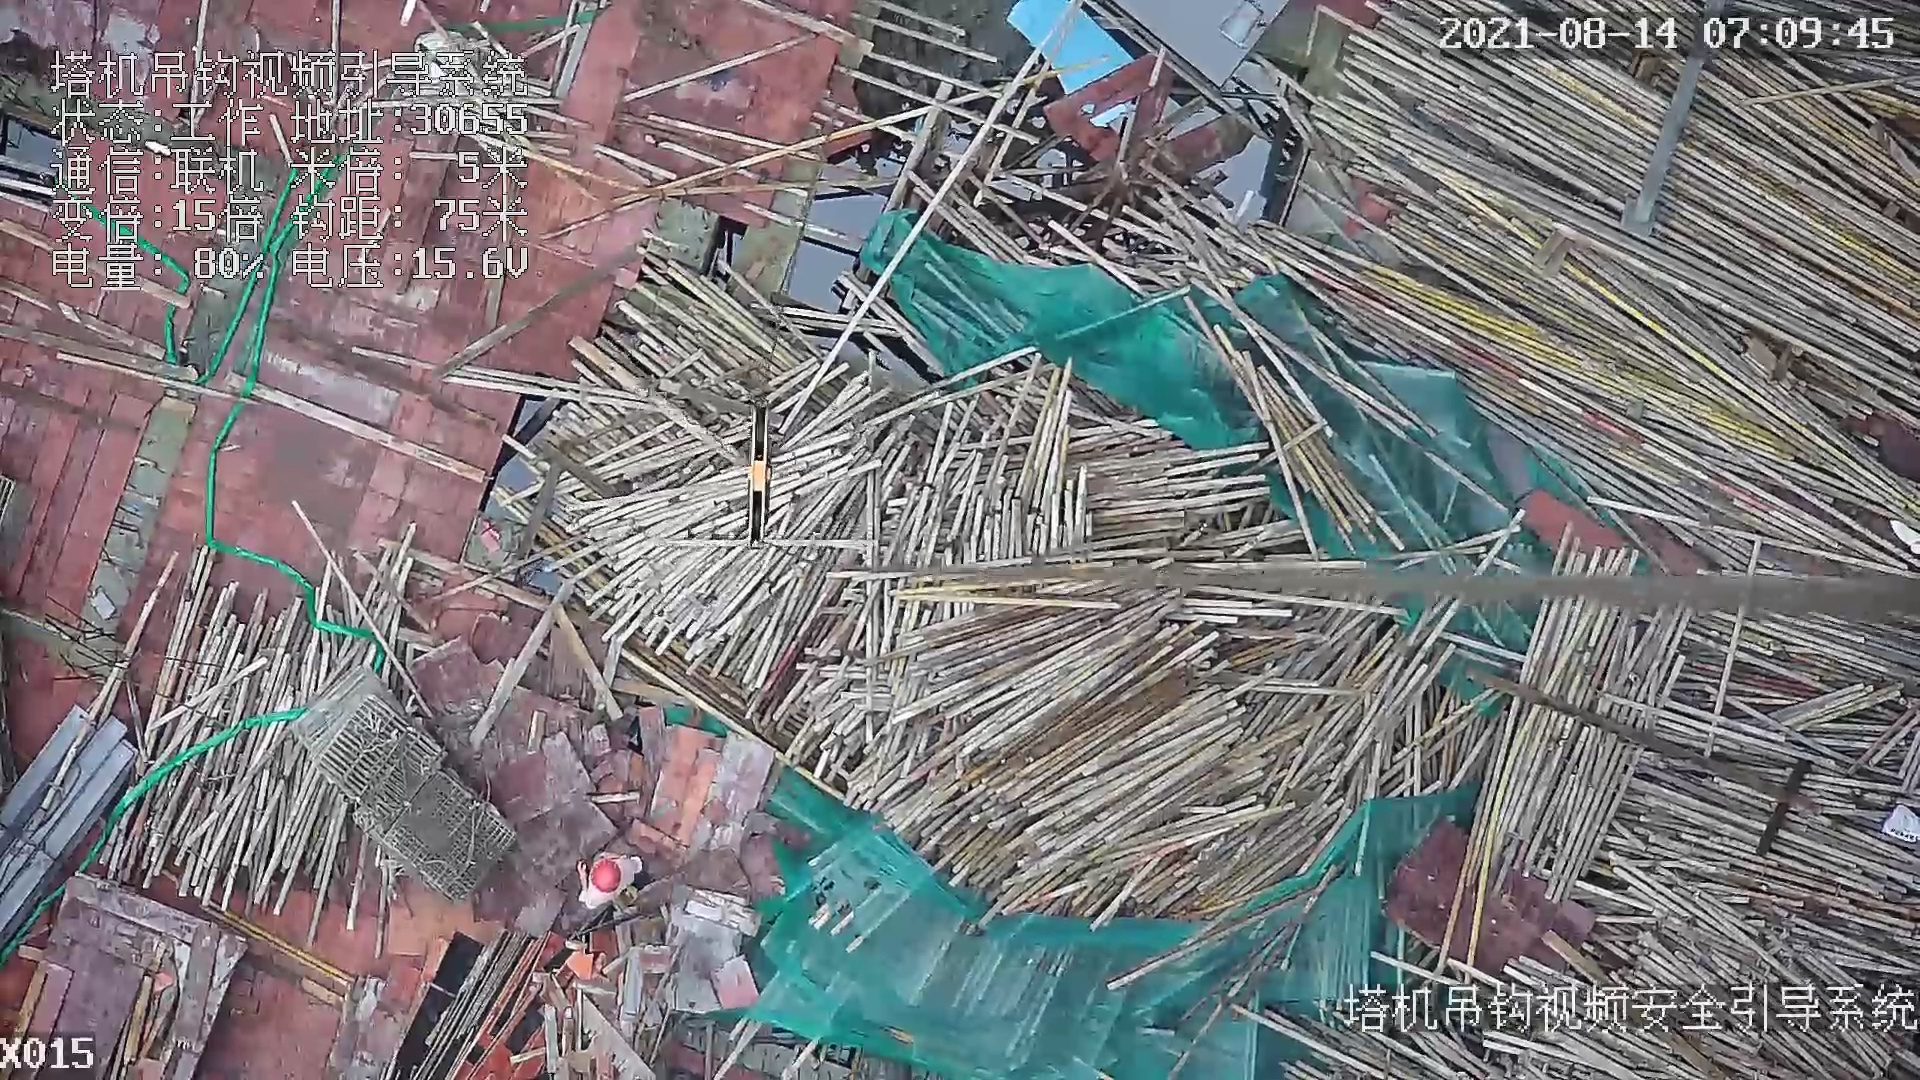helmet: (590, 860, 622, 893)
hook: (735, 399, 783, 556)
person: (573, 850, 646, 901)
